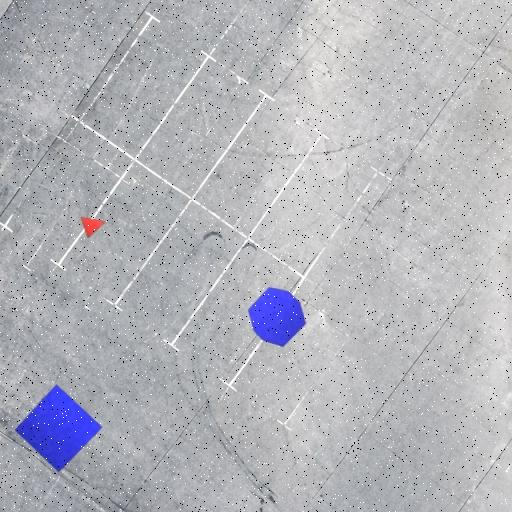BLUE_SQUARE: (14, 383, 104, 474)
